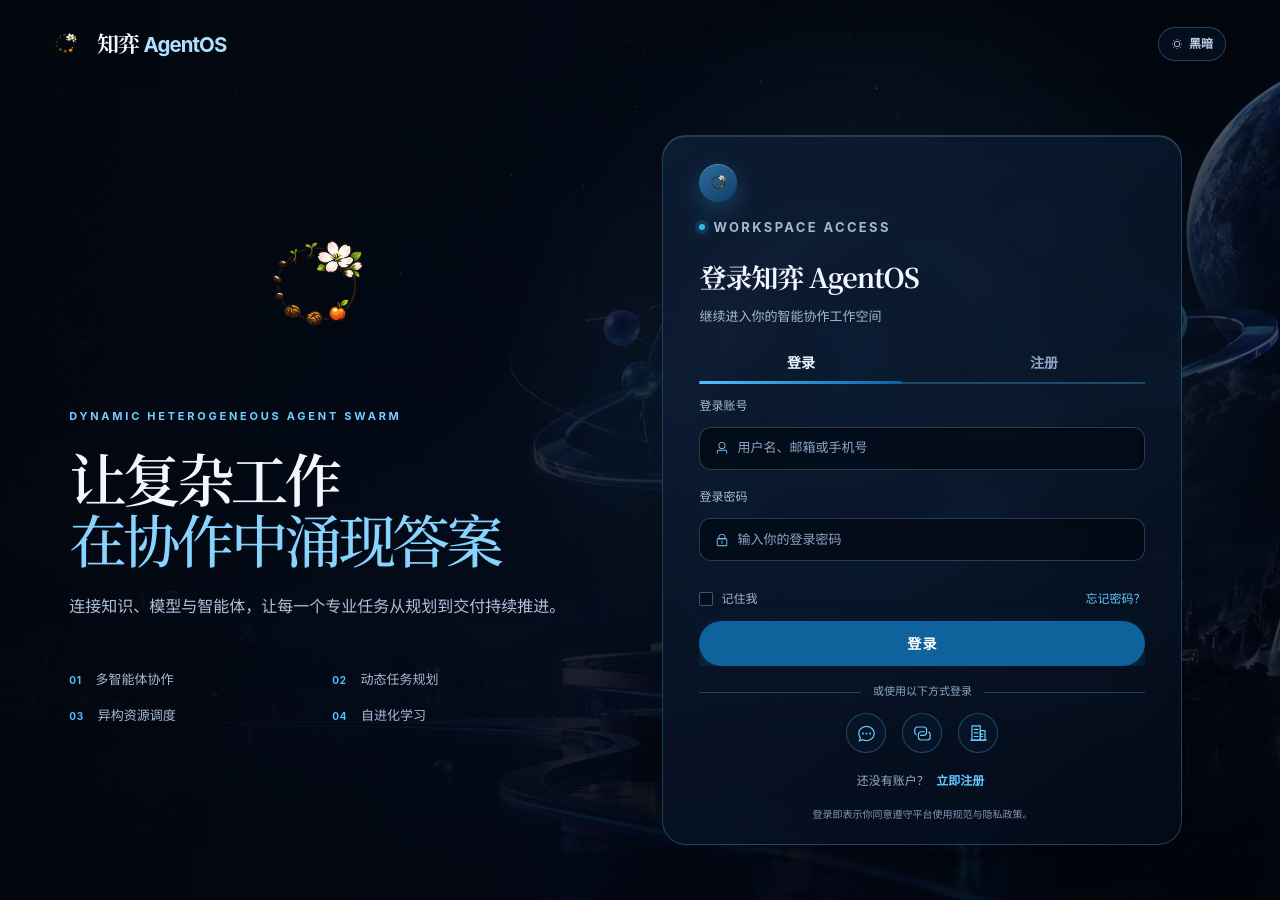
LoginView › renders a labelled primary action for the active auth mode
Expected: the button with test id "auth-submit" reads "登录", [700,622,1146,666]
Click the tab "注册" at [1044, 363], box [1030,354,1058,371]
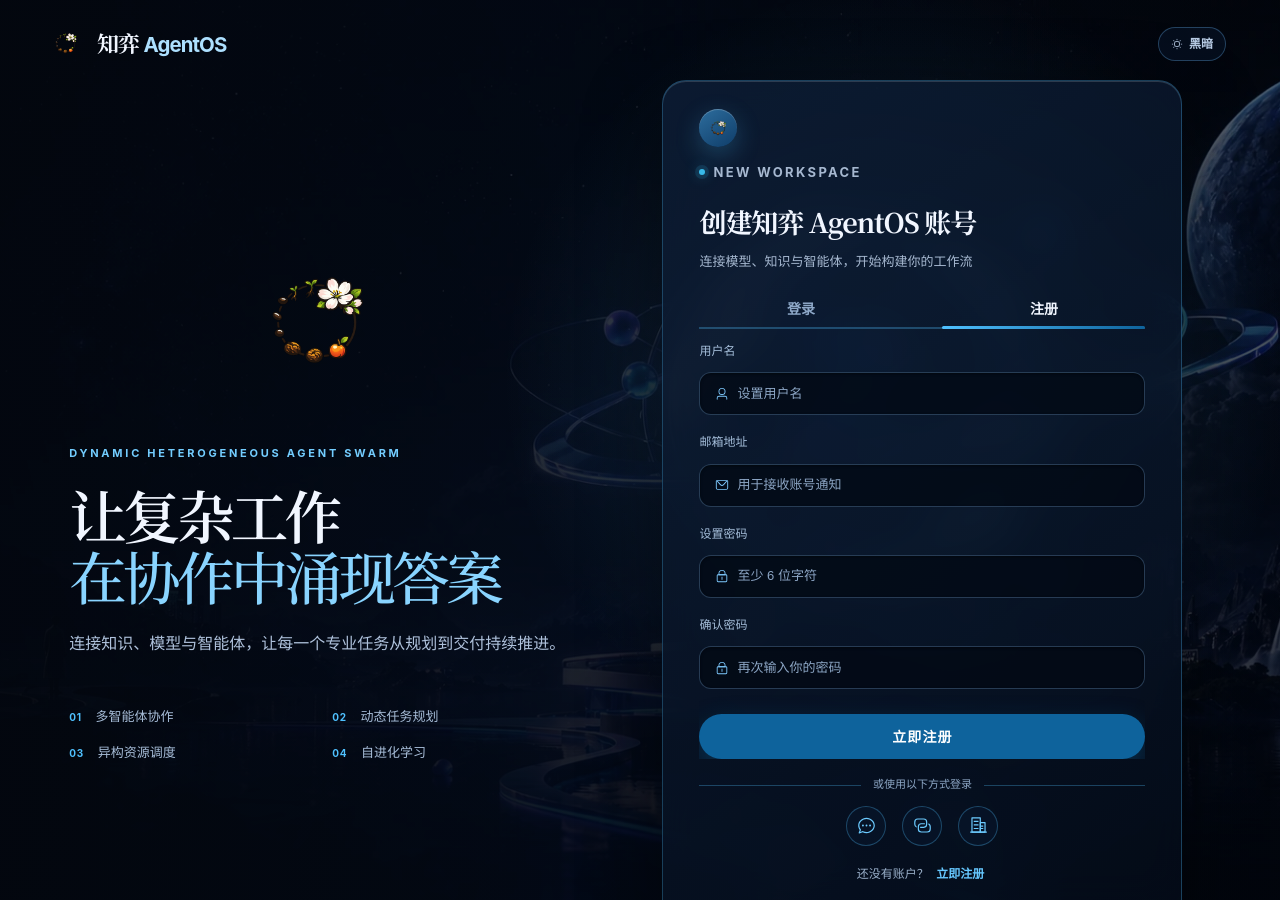
Result: the heading with id "auth-card-title" reads "创建知弈 AgentOS 账号" at [700,202,976,241]
Result: the element with class "auth-card__eyebrow" reads "NEW WORKSPACE" at [714,164,862,180]
